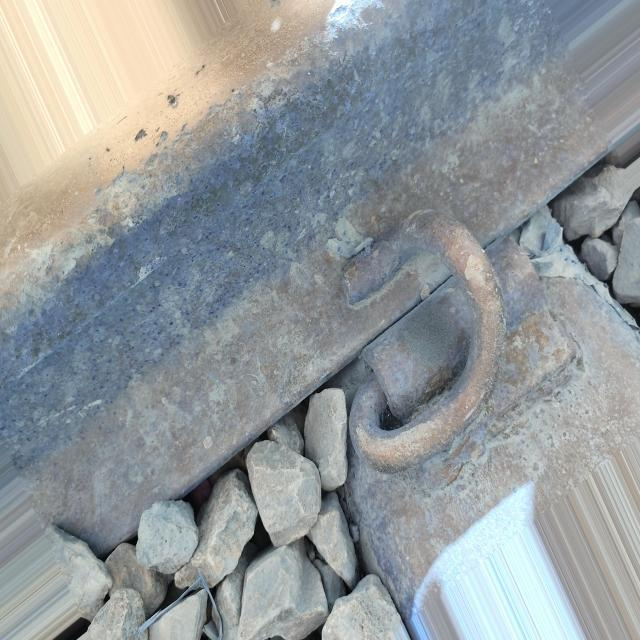Good Fasteners: (344, 210, 576, 471)
